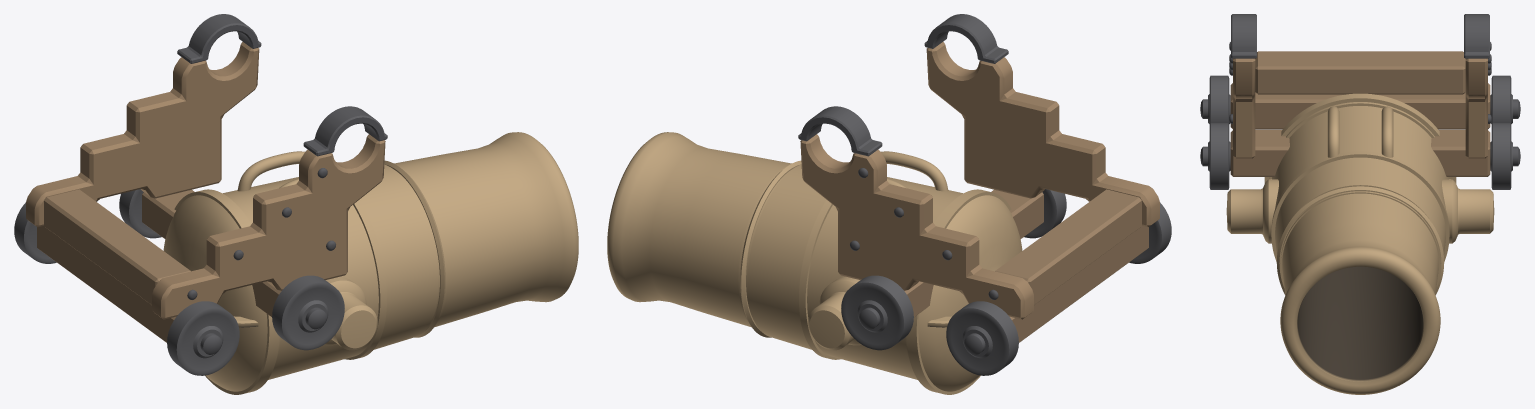
File: cannon.glb
3 views of the same model, side by side, from view 1: azimuth 30°, elevation 25°; view 2: azimuth 150°, elevation 25°; view 3: azimuth 270°, elevation 25° (orthographic). The views are drawn at different scales.
Parts seen in each view (by area): view 1: barrel, wood, iron; view 2: barrel, wood, iron; view 3: barrel, wood, iron.
Part boxes in pixels (box(x1,y1,x2,y2)): barrel: box(163, 132, 578, 394); wood: box(26, 42, 385, 342); iron: box(14, 14, 387, 375); barrel: box(607, 132, 1022, 394); wood: box(800, 42, 1159, 342); iron: box(798, 14, 1171, 375); barrel: box(1226, 93, 1494, 394); wood: box(1230, 51, 1490, 176); iron: box(1200, 14, 1520, 189).
Bounding box in the file's own units: 1.06 × 0.6937 × 0.716.
